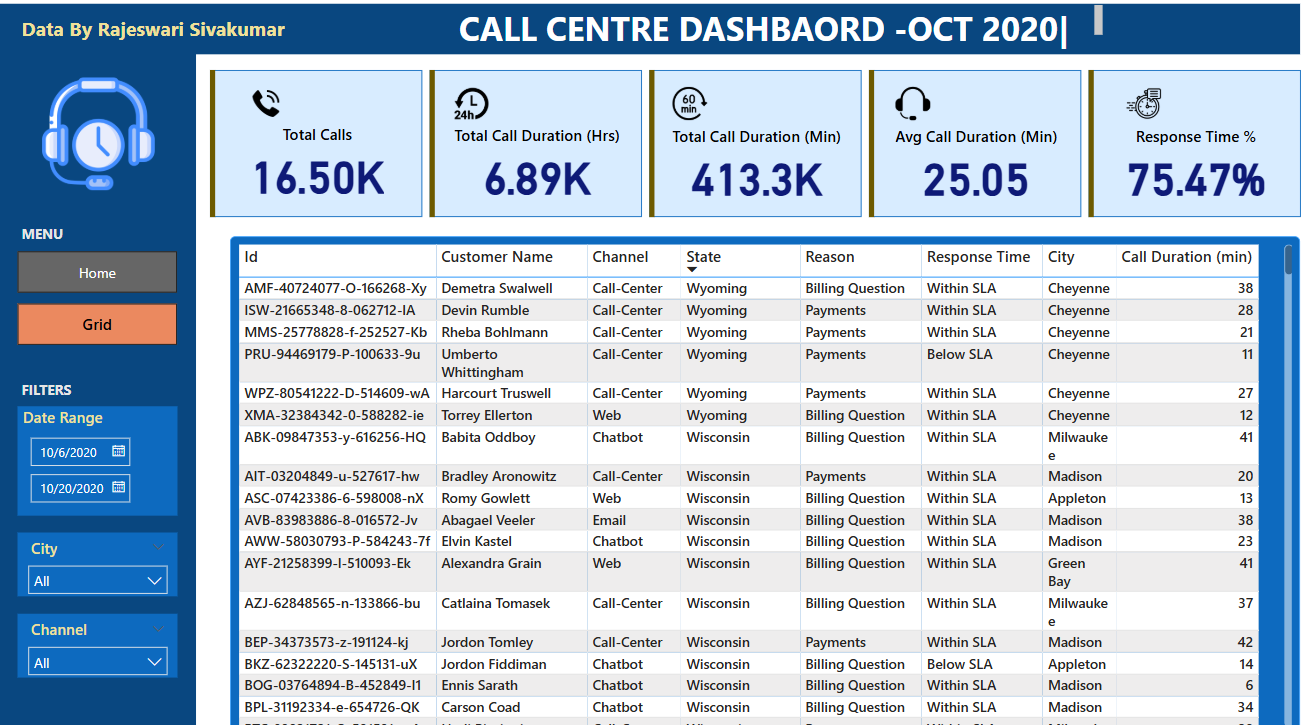

Layout of this report page (visuals, bound fields, positions):
{"tool":"powerbi","page":{"name":"Grid","canvas":[1280,720],"ordinal":1},"visuals":[{"type":"cardVisual","fields":{"Data":["Call Center_Call Center.Total Calls","Call Center_Call Center.Total Call Duration (Hrs)","Call Center_Call Center.Total Call Duration (Min)","Call Center_Call Center.Avg Call Duration (Min)","Call Center_Call Center.Response Time %"]},"box":[212.8,67.1,1063.6,152.6],"z":0},{"type":"shape","box":[13,49.2,190.6,663.5],"z":1000},{"type":"shape","box":[13,8.5,1256.1,48.8],"z":2000},{"type":"textbox","box":[428.3,4.8,655.1,59.1],"z":3000},{"type":"slicer","title":"Date Range","fields":{"Values":["Date Table.Date"]},"box":[31.5,396.8,154.5,105.7],"z":4000},{"type":"slicer","fields":{"Values":["Call Center_Call Center.City"]},"box":[31.5,518.8,154.5,61.6],"z":5000},{"type":"slicer","fields":{"Values":["Call Center_Call Center.Channel"]},"box":[31.5,596.6,154.5,61.6],"z":6000},{"type":"image","box":[49,74.8,119.7,118.5],"z":7000},{"type":"tableEx","fields":{"Values":["Call Center_Call Center.Id","Call Center_Call Center.Customer Name","Call Center_Call Center.Channel","Call Center_Call Center.State","Call Center_Call Center.Reason","Call Center_Call Center.Response Time","Call Center_Call Center.City","Sum(Call Center_Call Center.Call Duration In Minutes)"]},"box":[236.5,232.8,1032.7,480.2],"z":8000},{"type":"pageNavigator","box":[31.5,246.7,154.5,90.6],"z":9000},{"type":"textbox","box":[30.4,216.5,63.9,33.7],"z":10000},{"type":"textbox","box":[30.4,366.4,91.8,30.2],"z":11000},{"type":"textbox","box":[30.2,14.5,273.9,41],"z":12000}]}

Visuals, with their boxes on the page's 1280x720 design canvas (x1, y1, x2, y2). These are canvas units, not pixel positions in the 1307x725 screenshot, which may show the page scaled, cropped or inside an application window:
cardVisual - Call Center_Call Center.Total Calls x Call Center_Call Center.Total Call Duration (Hrs): (213, 67, 1276, 220)
shape: (13, 49, 204, 713)
shape: (13, 8, 1269, 57)
textbox: (428, 5, 1083, 64)
"Date Range" slicer: (32, 397, 186, 502)
slicer - Call Center_Call Center.City: (32, 519, 186, 580)
slicer - Call Center_Call Center.Channel: (32, 597, 186, 658)
image: (49, 75, 169, 193)
tableEx - Call Center_Call Center.Id x Call Center_Call Center.Customer Name: (236, 233, 1269, 713)
pageNavigator: (32, 247, 186, 337)
textbox: (30, 216, 94, 250)
textbox: (30, 366, 122, 397)
textbox: (30, 14, 304, 56)
